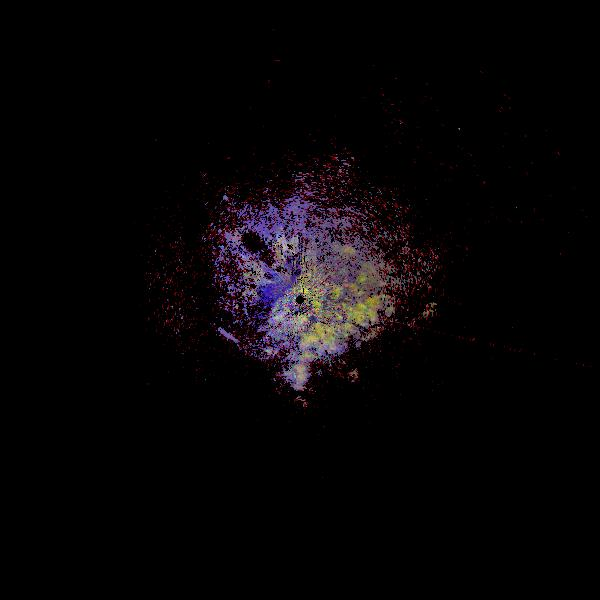roost: (280, 358, 313, 391)
